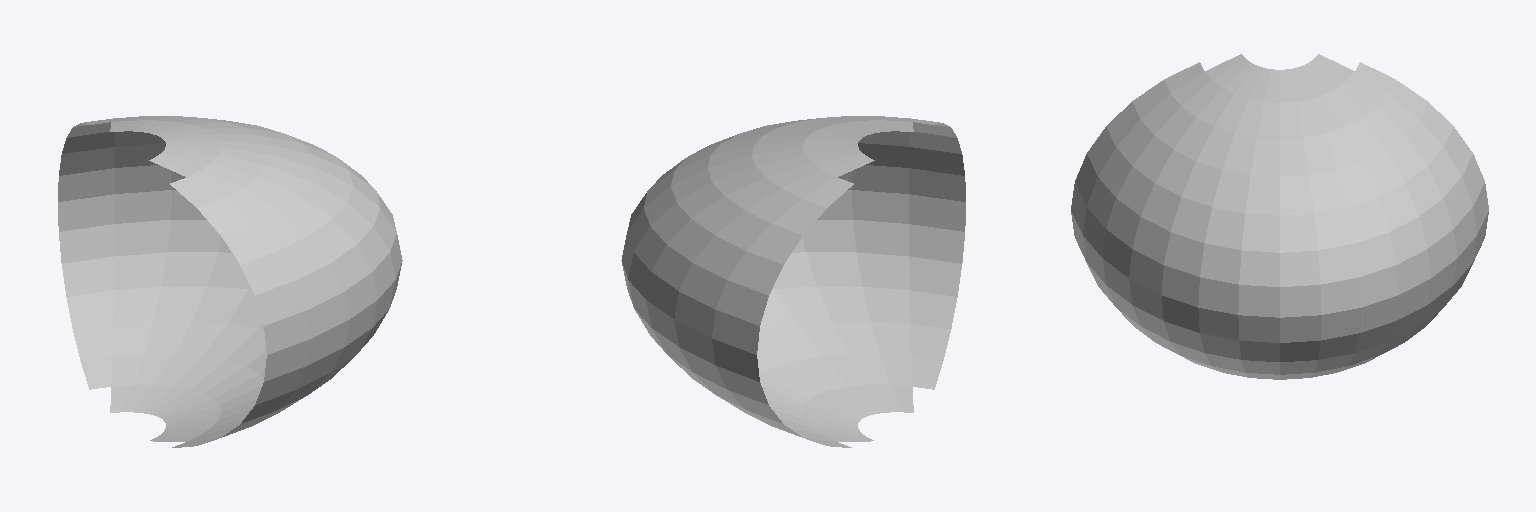
Rendered from frontwindow.obj.
The picture shows the model from 3 angles: view 1: azimuth 30°, elevation 25°; view 2: azimuth 150°, elevation 25°; view 3: azimuth 270°, elevation 25°; orthographic projection.
Parts seen in each view (by area): view 1: Sphere; view 2: Sphere; view 3: Sphere.
Part boxes in pixels (x1,y1,x2,y2): Sphere: (58,116,402,447); Sphere: (621,116,965,447); Sphere: (1071,54,1488,379).
Bounding box in the file's own units: 1.85 × 1.96 × 2.65.